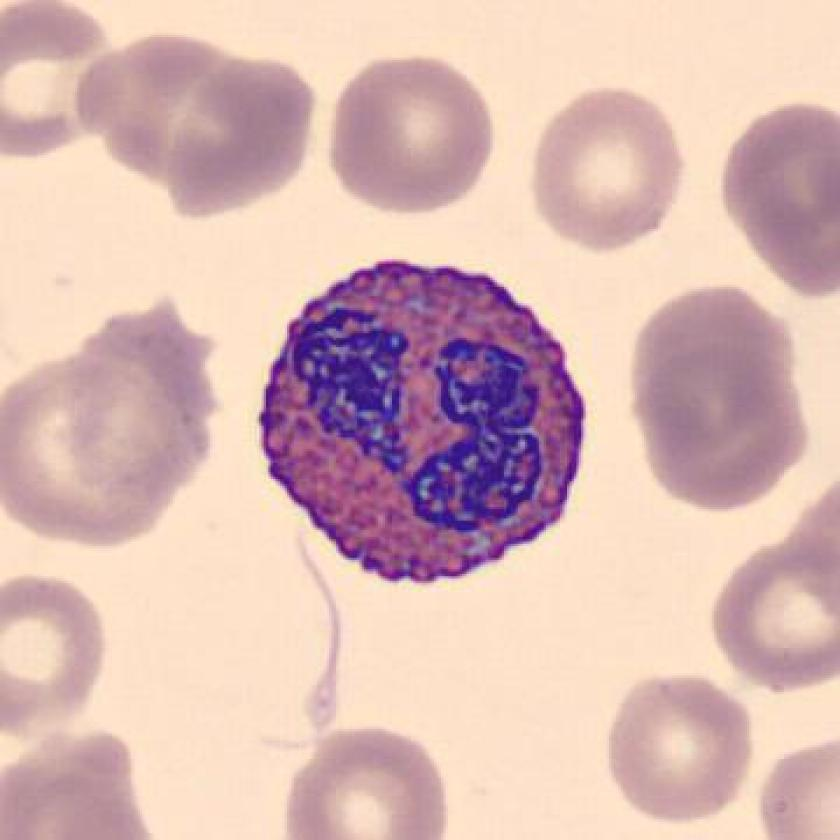eosinophil: (253, 244, 598, 593)
